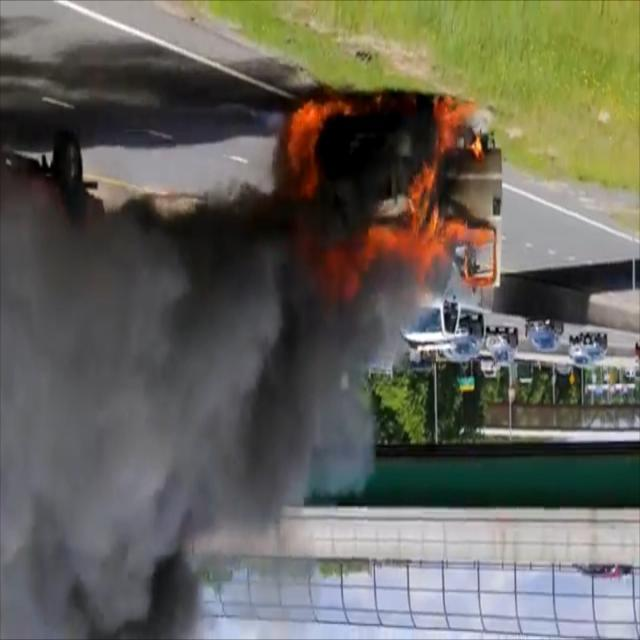fire: (274, 89, 500, 305)
